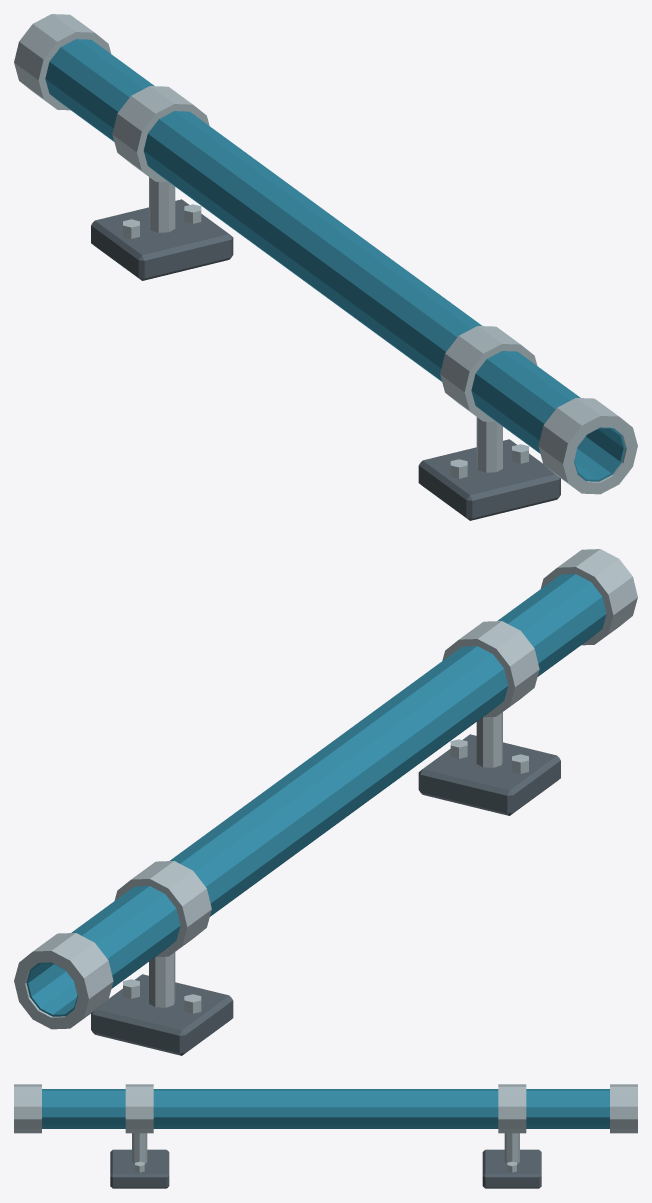
File: 01_pipe_water_floor_straight.glb
The picture shows the model from 3 angles, top to bottom: view 1: azimuth 30°, elevation 25°; view 2: azimuth 150°, elevation 25°; view 3: azimuth 270°, elevation 25°; orthographic projection. The views are drawn at different scales.
Visible parts, largest first — view 1: 01_pipe_water_floor_straight; view 2: 01_pipe_water_floor_straight; view 3: 01_pipe_water_floor_straight.
Part boxes in pixels (x1,y1,x2,y2): 01_pipe_water_floor_straight: [14, 14, 637, 520]; 01_pipe_water_floor_straight: [14, 549, 637, 1055]; 01_pipe_water_floor_straight: [14, 1084, 637, 1188].
Bounding box in the file's own units: 0.2 × 0.3193 × 2.01.
